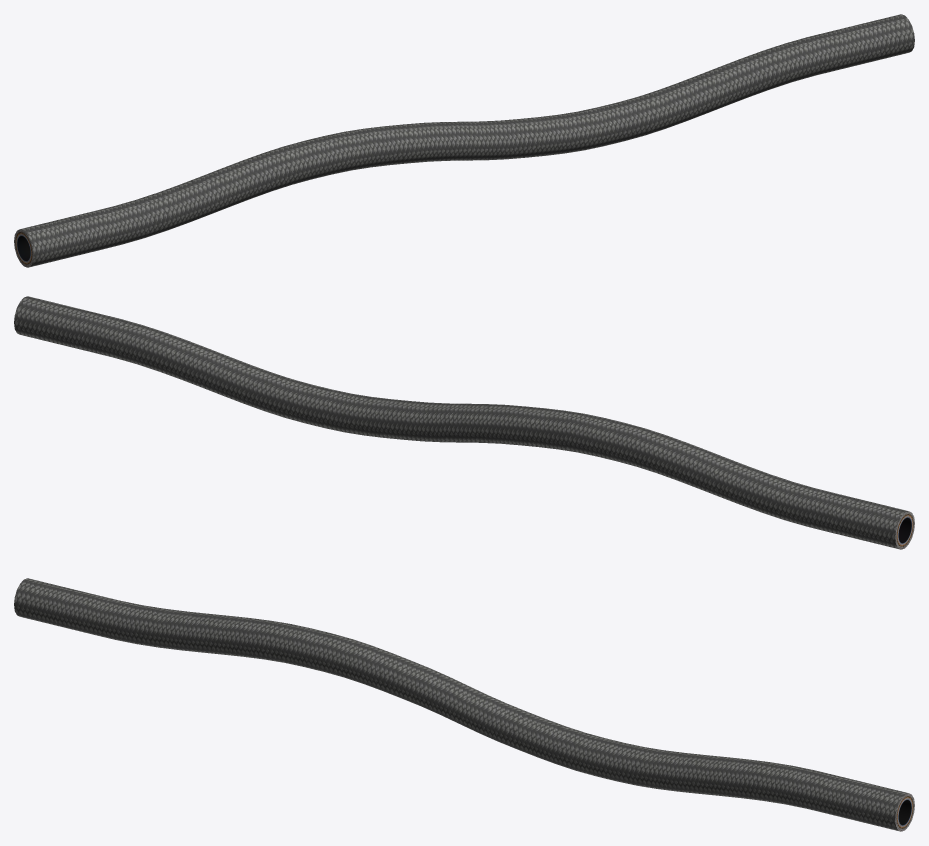
The picture shows the model from 3 angles, top to bottom: view 1: azimuth 30°, elevation 25°; view 2: azimuth 150°, elevation 25°; view 3: azimuth 330°, elevation 25°; orthographic projection.
Parts seen in each view (by area): view 1: SB_HP-06; view 2: SB_HP-06; view 3: SB_HP-06.
Part boxes in pixels (left/top/right/bottom): SB_HP-06: left=14, top=14, right=914, bottom=267; SB_HP-06: left=14, top=296, right=914, bottom=549; SB_HP-06: left=14, top=578, right=914, bottom=831.
Bounding box in the file's own units: 0.3074 × 0.0246 × 0.0119.
2 materials, 2 textured.
